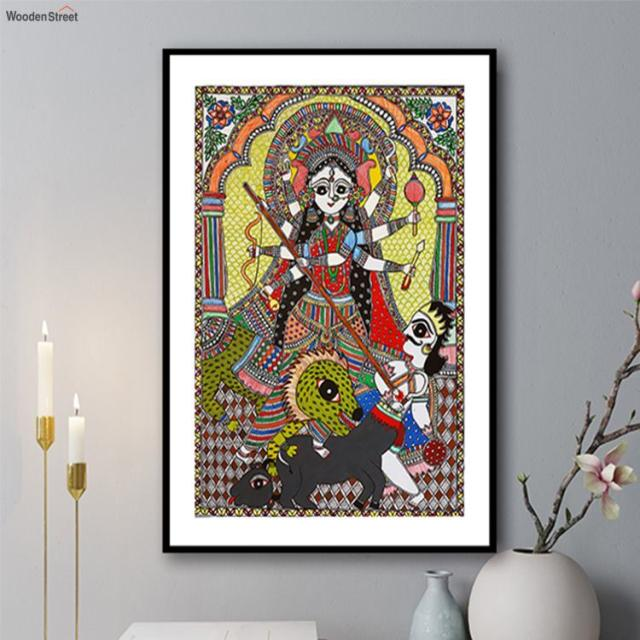painting: (161, 48, 497, 553)
